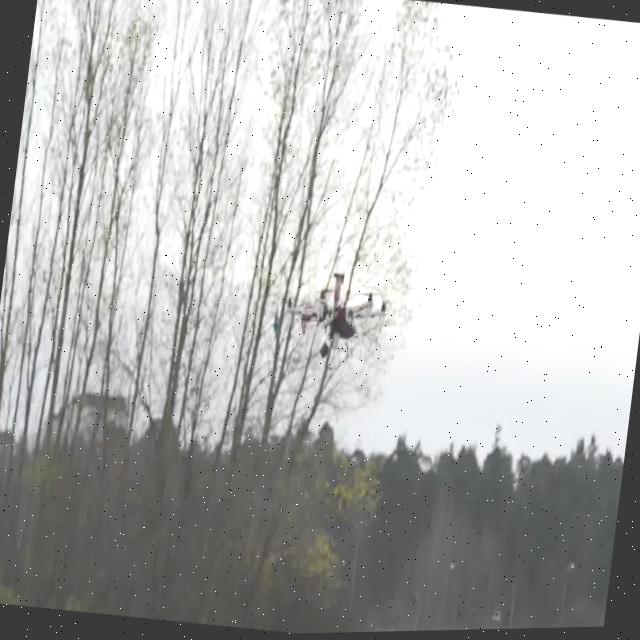drone: (265, 248, 408, 401)
